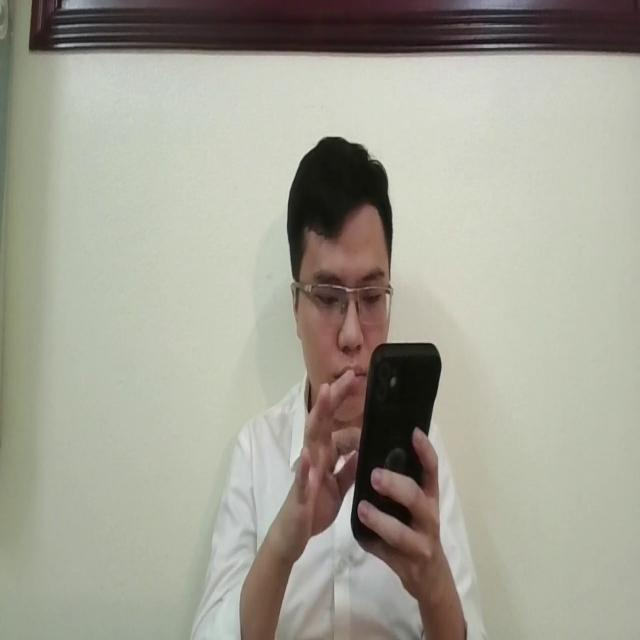phone: (348, 339, 442, 548)
student: (188, 130, 487, 640)
